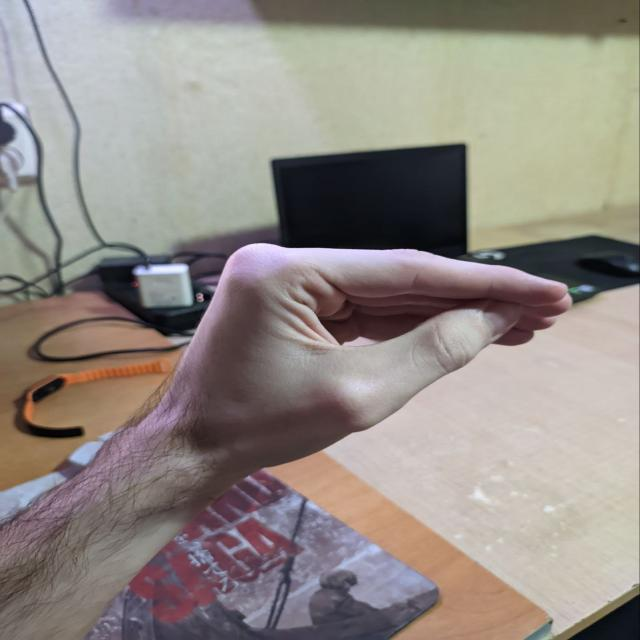zh: (171, 205, 594, 490)
